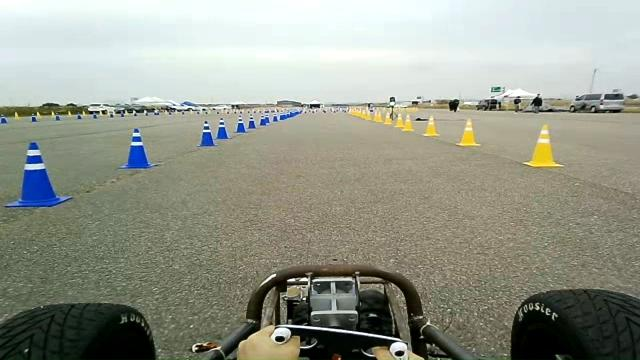blue cone: (4, 141, 72, 207), (118, 128, 158, 169), (196, 120, 217, 147), (215, 118, 230, 140), (234, 114, 247, 133), (260, 111, 270, 125), (248, 114, 256, 129), (272, 110, 278, 122)
yellow cone: (521, 124, 564, 168), (455, 118, 481, 146), (422, 115, 439, 136), (401, 113, 414, 131), (394, 112, 404, 127), (373, 109, 383, 122), (382, 113, 392, 125), (349, 107, 359, 117), (362, 110, 370, 121)
